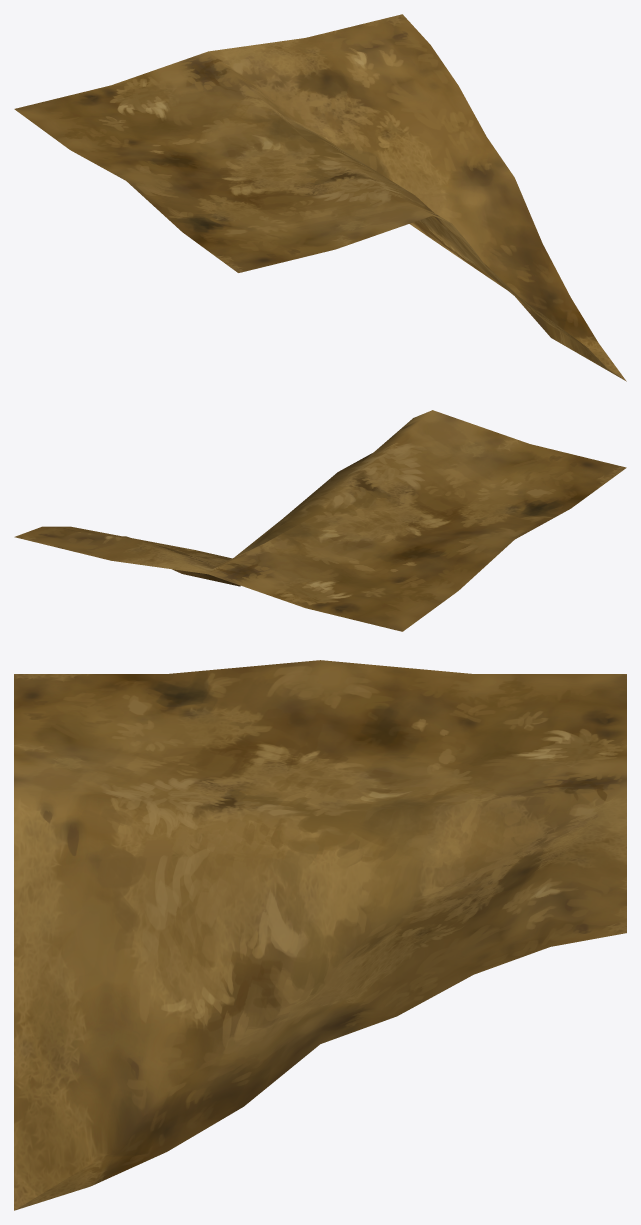
Rendered from Slope_Level_Incline_001.fbx.
The picture shows the model from 3 angles, top to bottom: view 1: azimuth 30°, elevation 25°; view 2: azimuth 150°, elevation 25°; view 3: azimuth 270°, elevation 25°; orthographic projection. The views are drawn at different scales.
Parts seen in each view (by area): view 1: Slope_Level_Incline_001; view 2: Slope_Level_Incline_001; view 3: Slope_Level_Incline_001.
Boxes of the visible parts, <box> form: Slope_Level_Incline_001: <box>14,14,626,381</box>; Slope_Level_Incline_001: <box>14,410,626,631</box>; Slope_Level_Incline_001: <box>14,660,626,1210</box>.
Size of the model in its own units: 10 by 5.25 by 10.
Materials: 1 (1 with a texture image).
